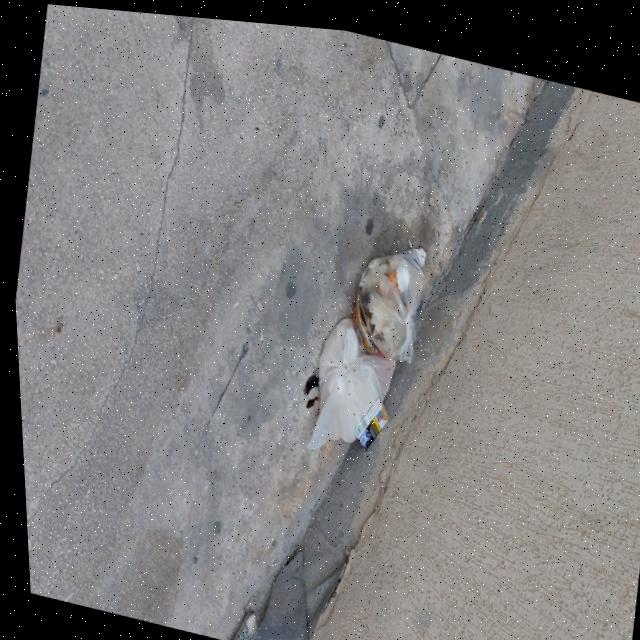Organic Waste -White Bag-: (293, 215, 439, 454)
